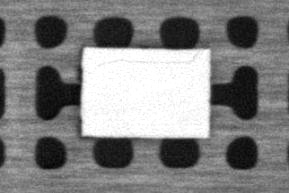DIE_CRACK: (89, 49, 204, 72)
